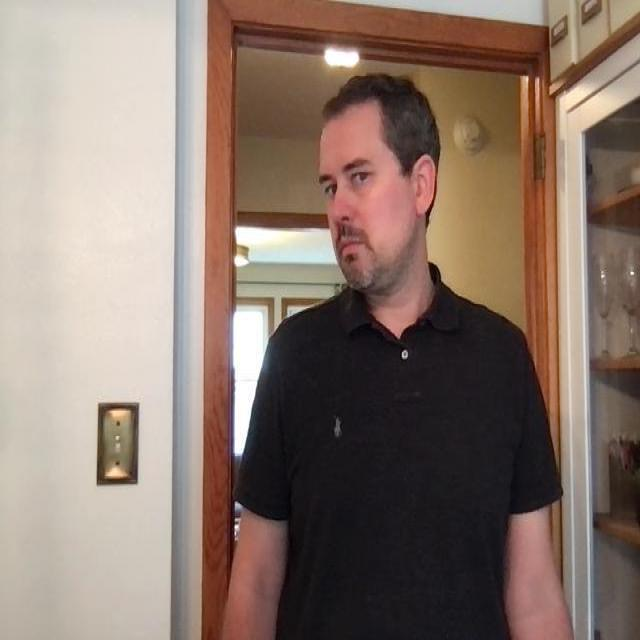face: (316, 75, 441, 300)
